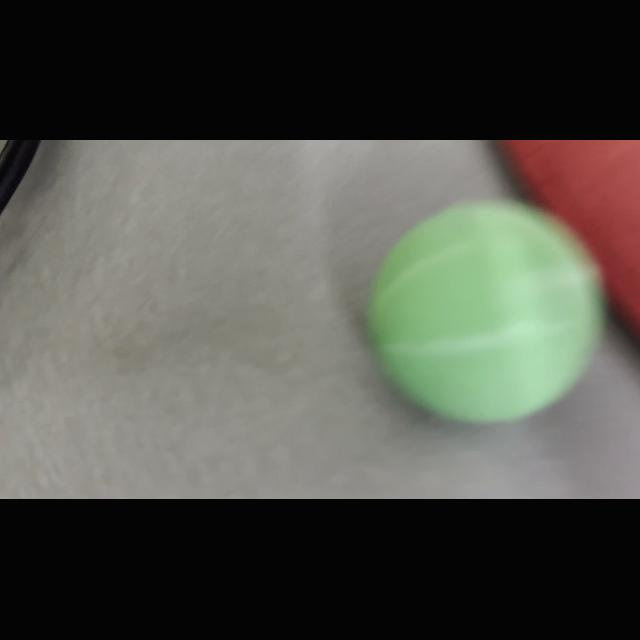objects: (356, 190, 608, 432)
